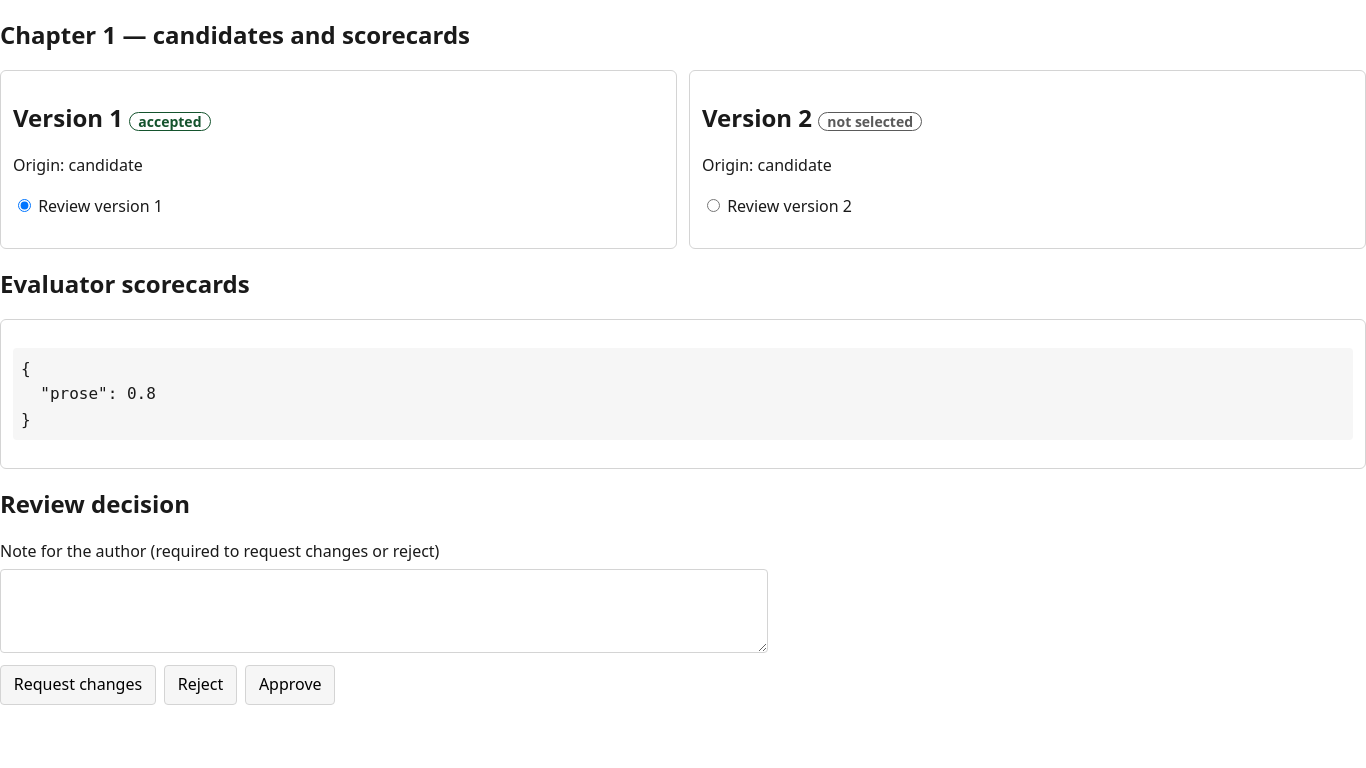
candidate review › cancels a confirmation with Escape and sends nothing
Expected: the heading "Version 1 accepted" is shown, [13, 101, 210, 134]
Step 1. Click the button "Reject" → (200, 685), box [164, 665, 237, 705]
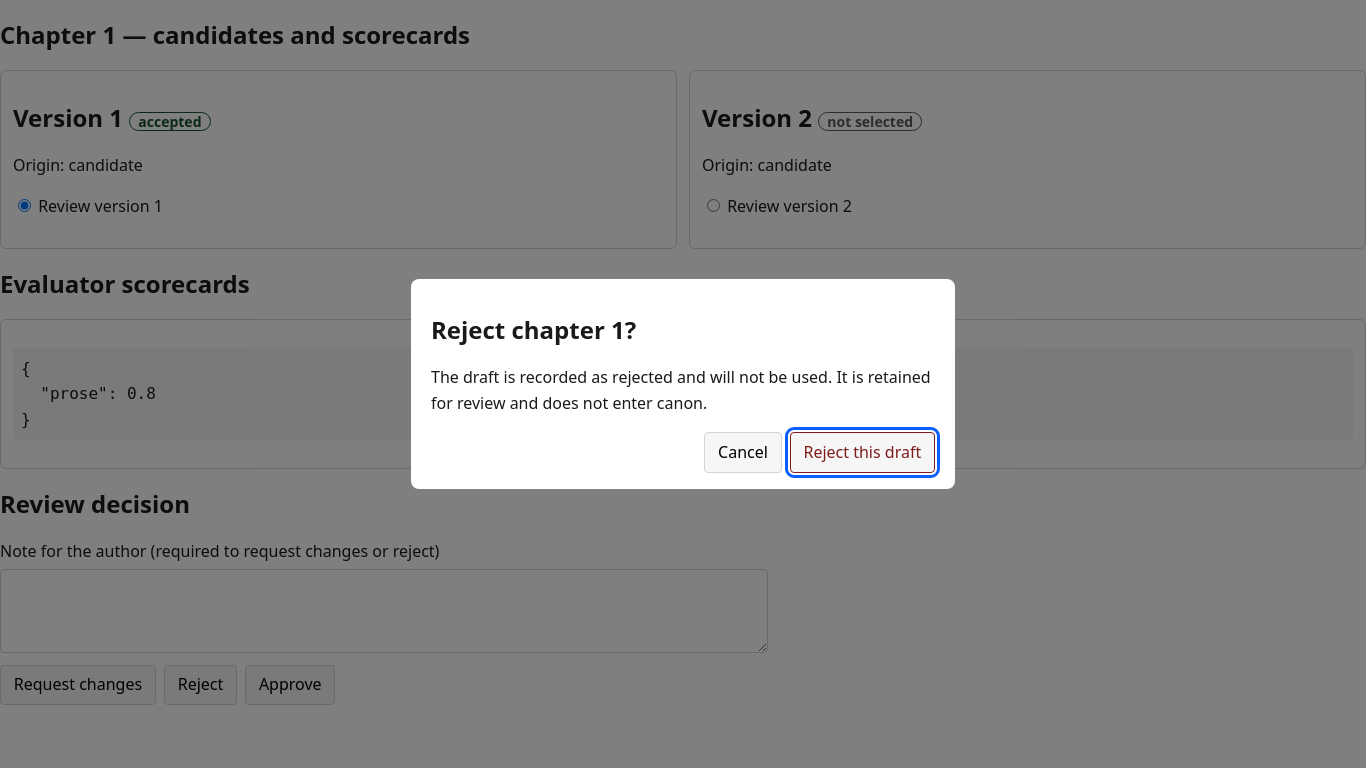
Now the dialog is shown, box [411, 279, 955, 489]
Step 2. Press Escape
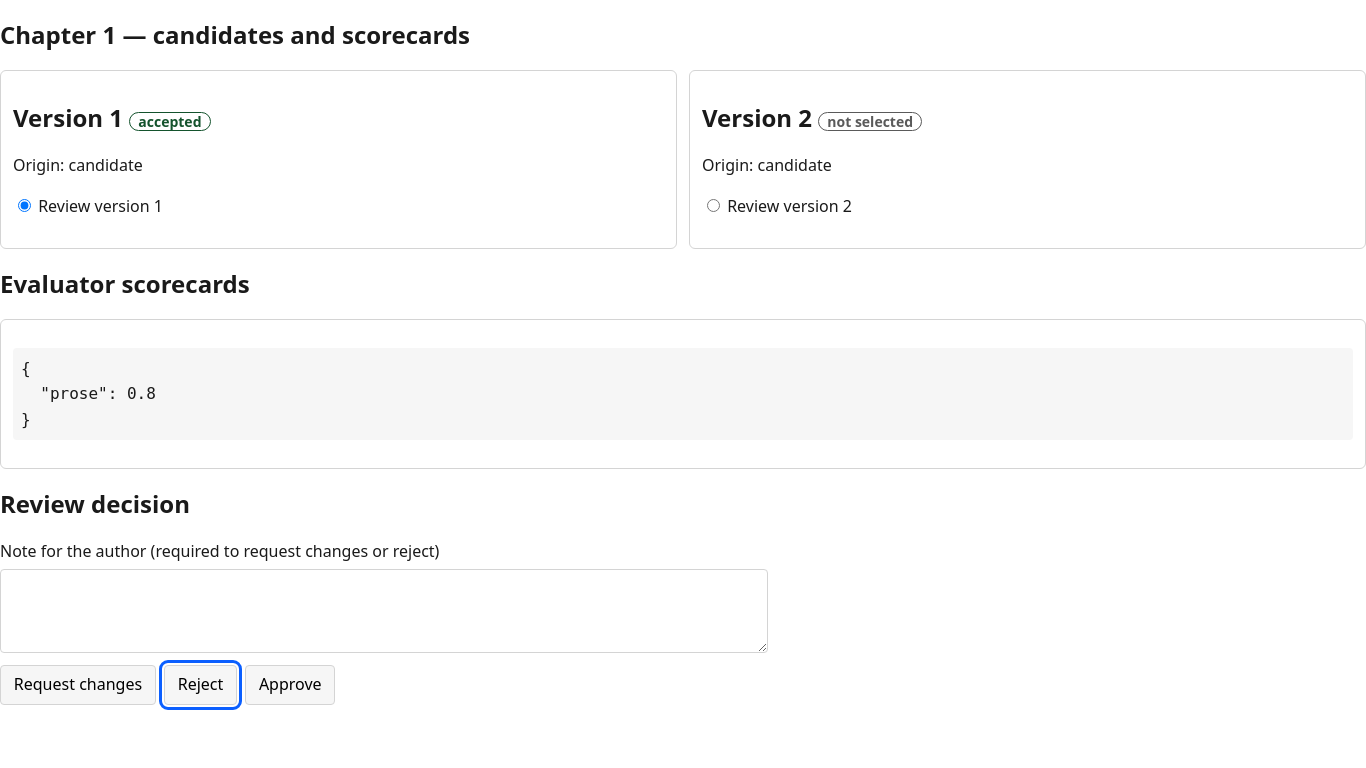
Now the dialog is gone
